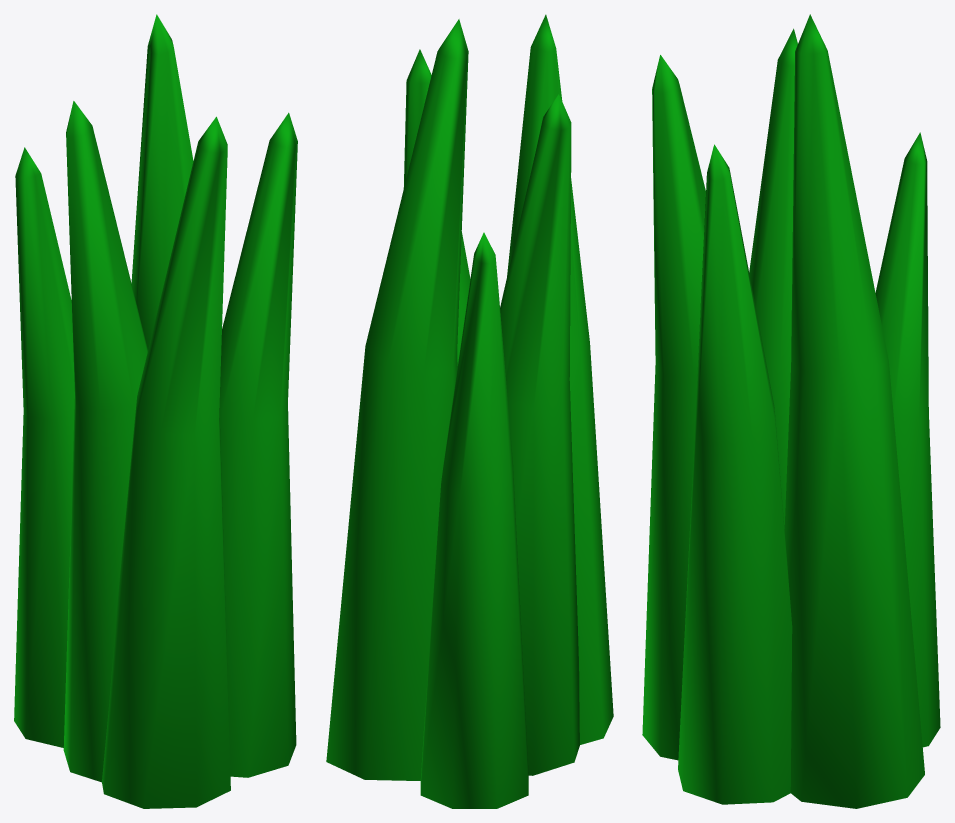
File: GrassTile_Small.fbx
3 views of the same model, side by side, from view 1: azimuth 30°, elevation 25°; view 2: azimuth 150°, elevation 25°; view 3: azimuth 270°, elevation 25° (orthographic). The views are drawn at different scales.
Visible parts, largest first — view 1: GrassTile_Small; view 2: GrassTile_Small; view 3: GrassTile_Small.
Boxes of the visible parts, x1=… form: GrassTile_Small: x1=14, y1=14, x2=297, y2=808; GrassTile_Small: x1=326, y1=14, x2=613, y2=808; GrassTile_Small: x1=642, y1=14, x2=940, y2=808.
Bounding box in the file's own units: 1.04 × 1.26 × 3.47.
